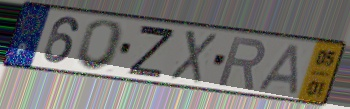6: (41, 15, 81, 66)
A: (255, 42, 302, 97)
O: (72, 18, 127, 73)
R: (215, 35, 268, 92)
X: (167, 28, 219, 86)
Z: (126, 23, 177, 80)
